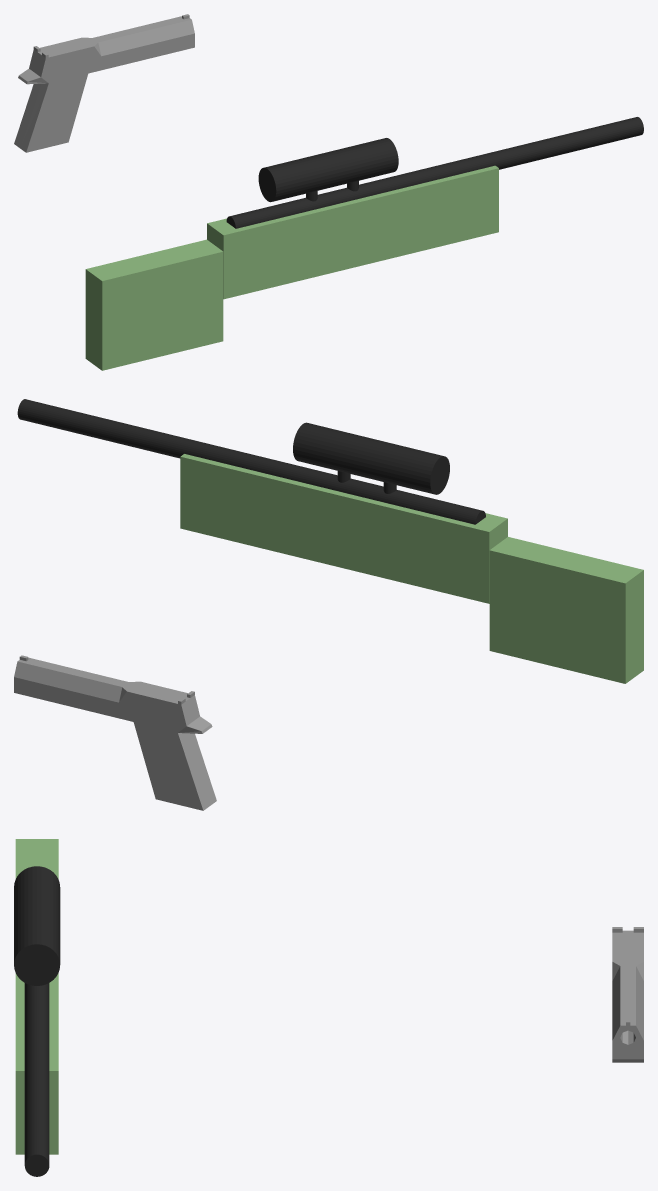
Rendered from sniper.glb.
The picture shows the model from 3 angles, top to bottom: view 1: azimuth 30°, elevation 25°; view 2: azimuth 150°, elevation 25°; view 3: azimuth 270°, elevation 25°; orthographic projection. The views are drawn at different scales.
Visible parts, largest first — view 1: stock, stock.001, pistol, Cylinder, Cylinder.003; view 2: stock, stock.001, pistol, Cylinder, Cylinder.003; view 3: Cylinder.003, Cylinder, pistol, stock, stock.001.
Boxes of the visible parts, left/top/right/bottom form: stock: left=207, top=165, right=498, bottom=299; stock.001: left=85, top=239, right=223, bottom=370; pistol: left=14, top=14, right=194, bottom=152; Cylinder: left=226, top=117, right=643, bottom=228; Cylinder.003: left=258, top=138, right=398, bottom=202; stock: left=180, top=454, right=507, bottom=603; stock.001: left=489, top=537, right=643, bottom=683; pistol: left=14, top=655, right=216, bottom=810; Cylinder: left=17, top=399, right=485, bottom=524; Cylinder.003: left=293, top=422, right=449, bottom=494; Cylinder.003: left=14, top=866, right=60, bottom=985; Cylinder: left=24, top=983, right=49, bottom=1176; pistol: left=612, top=927, right=643, bottom=1062; stock: left=15, top=973, right=58, bottom=1154; stock.001: left=15, top=839, right=58, bottom=878.
Bounding box in the file's own units: 2.67 × 0.7192 × 2.05.
